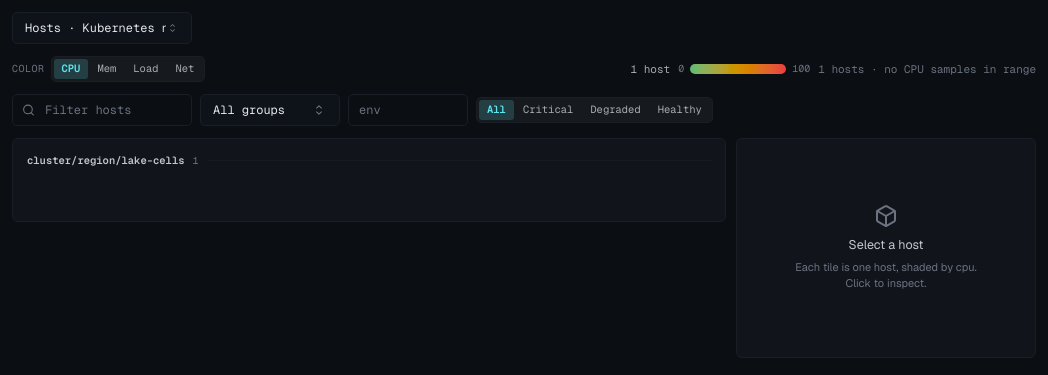
Scenario: separates nodes and pods, shows missing samples, and shares environment/health filters
Check: the text "1 hosts · no CPU samples in range" is shown, box [818, 61, 1036, 77]
Check: the text "api-abc" is not shown
Click the button "Degraded": (616, 110) [582, 100, 649, 120]
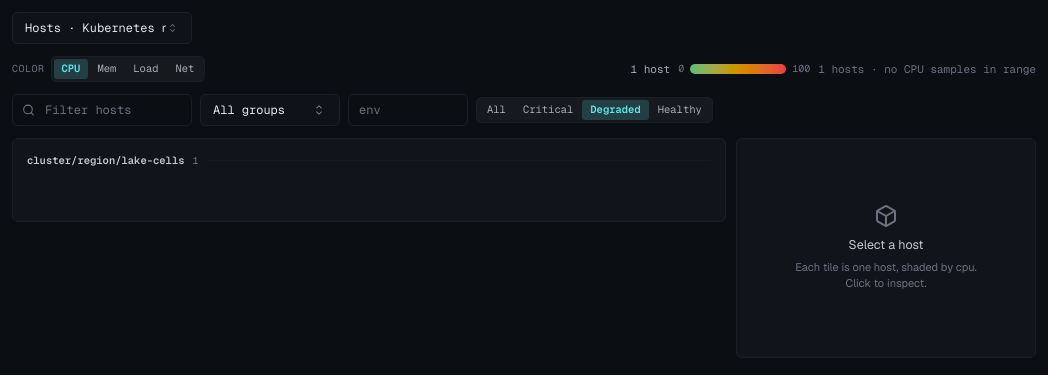
In the field named "Filter by deployment environment": (408, 110) [348, 94, 468, 126], type "production"
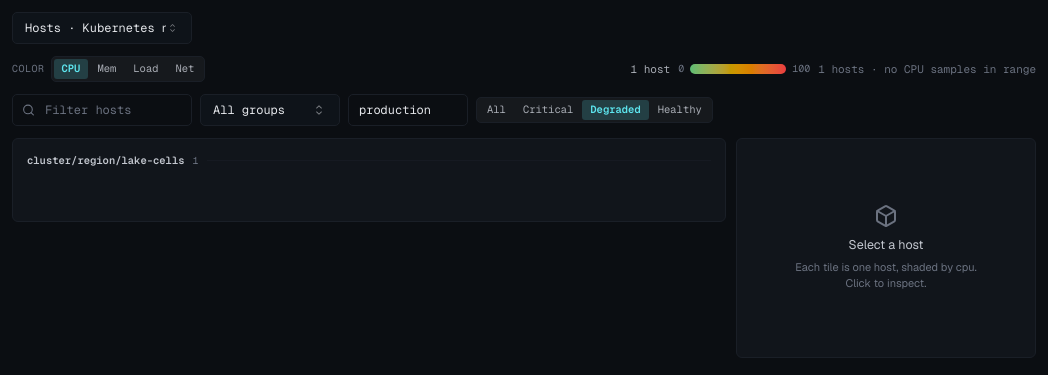
Press Enter in the dropdown named "Infrastructure view", box [12, 12, 192, 44]
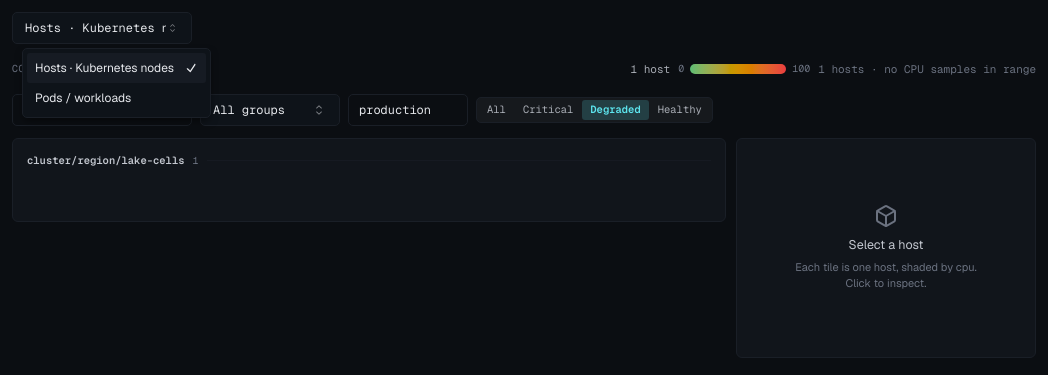
Click the option "Pods / workloads": (83, 98) [35, 90, 131, 106]
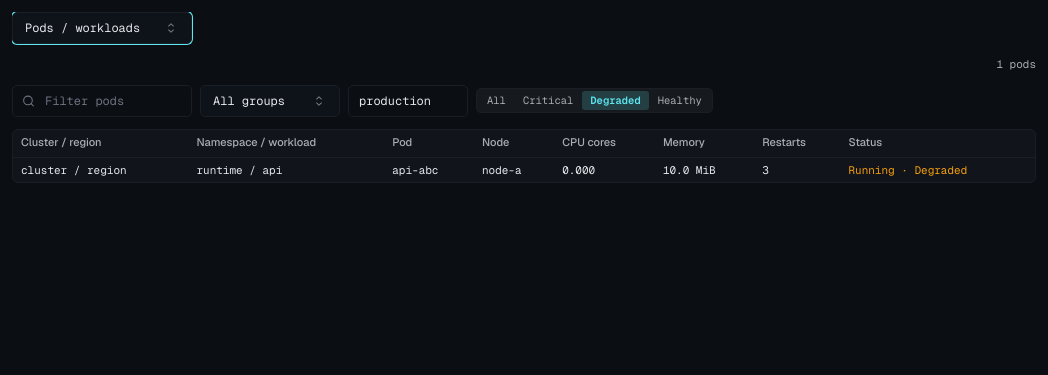
Check: the text "api-abc" is shown, box [384, 158, 474, 182]
Check: the text "0.000" is shown, box [554, 158, 655, 182]
Check: the text "10.0 MiB" is shown, box [655, 158, 754, 182]
